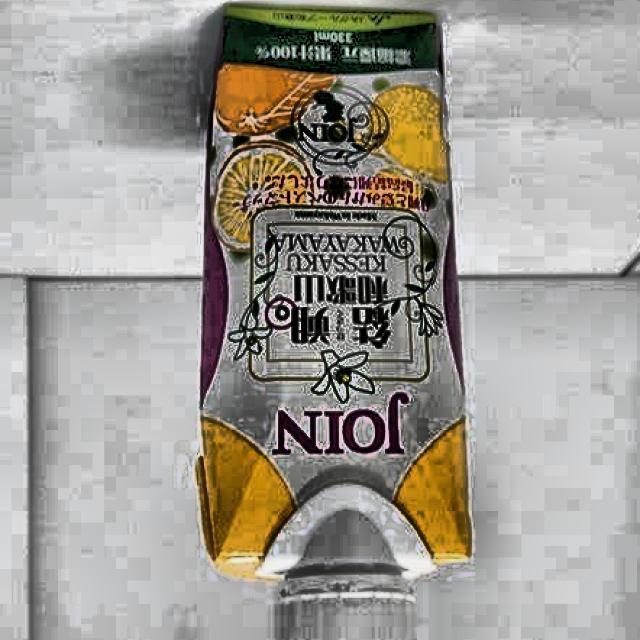cardboard: (25, 274, 640, 640)
